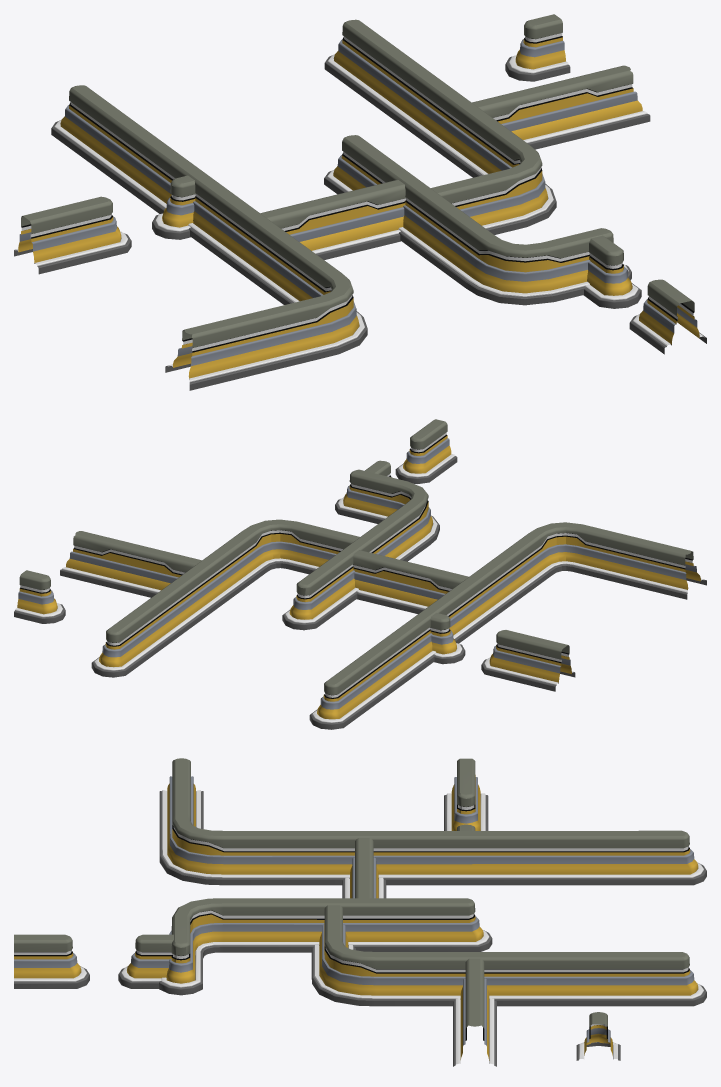
The model's file is Small walls.fbx.
3 renders of one model, top to bottom at view 1: azimuth 30°, elevation 25°; view 2: azimuth 150°, elevation 25°; view 3: azimuth 270°, elevation 25°, orthographic. The views are drawn at different scales.
Parts seen in each view (by area): view 1: Small_wall_L93, Small_wall_L94, Small_wall_L35, Small_wallv1_11, Small_wallv1_61, Small_wall_L34, Small_wall_L95, Small_wall_L32, Small_wall_L96, Small_wall_L33; view 2: Small_wall_L93, Small_wall_L94, Small_wall_L35, Small_wallv1_11, Small_wallv1_61, Small_wall_L34, Small_wall_L32, Small_wall_L95, Small_wall_L33; view 3: Small_wall_L93, Small_wall_L94, Small_wall_L35, Small_wall_L32, Small_wallv1_11, Small_wall_L34, Small_wall_L96, Small_wallv1_61, Small_wall_L95.
Part boxes in pixels (x1=…): Small_wall_L93: x1=51, y1=85, x2=367, y2=390; Small_wall_L94: x1=324, y1=19, x2=556, y2=234; Small_wall_L35: x1=324, y1=135, x2=631, y2=305; Small_wallv1_11: x1=472, y1=65, x2=650, y2=149; Small_wallv1_61: x1=260, y1=179, x2=406, y2=259; Small_wall_L34: x1=14, y1=196, x2=131, y2=274; Small_wall_L95: x1=505, y1=14, x2=570, y2=81; Small_wall_L32: x1=629, y1=279, x2=706, y2=354; Small_wall_L96: x1=583, y1=235, x2=641, y2=308; Small_wall_L33: x1=152, y1=175, x2=195, y2=239; Small_wall_L93: x1=309, y1=522, x2=706, y2=729; Small_wall_L94: x1=91, y1=519, x2=359, y2=677; Small_wall_L35: x1=282, y1=469, x2=439, y2=630; Small_wallv1_11: x1=60, y1=531, x2=201, y2=597; Small_wallv1_61: x1=352, y1=550, x2=468, y2=613; Small_wall_L34: x1=481, y1=630, x2=575, y2=691; Small_wall_L32: x1=395, y1=419, x2=457, y2=483; Small_wall_L95: x1=14, y1=570, x2=65, y2=623; Small_wall_L33: x1=430, y1=613, x2=465, y2=664; Small_wall_L93: x1=159, y1=758, x2=706, y2=885; Small_wall_L94: x1=311, y1=905, x2=706, y2=1006; Small_wall_L35: x1=159, y1=898, x2=492, y2=995; Small_wall_L32: x1=14, y1=934, x2=89, y2=988; Small_wallv1_11: x1=453, y1=958, x2=496, y2=1066; Small_wall_L34: x1=444, y1=758, x2=488, y2=830; Small_wall_L96: x1=118, y1=934, x2=173, y2=988; Small_wallv1_61: x1=342, y1=838, x2=386, y2=898; Small_wall_L95: x1=576, y1=1012, x2=620, y2=1060.
Size of the model in its own units: 506 by 38.41 by 541.
